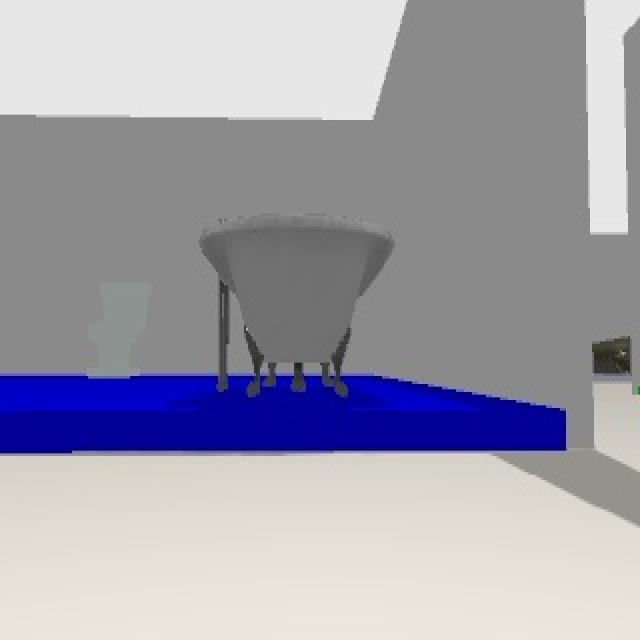bathtub: (200, 221, 392, 405)
